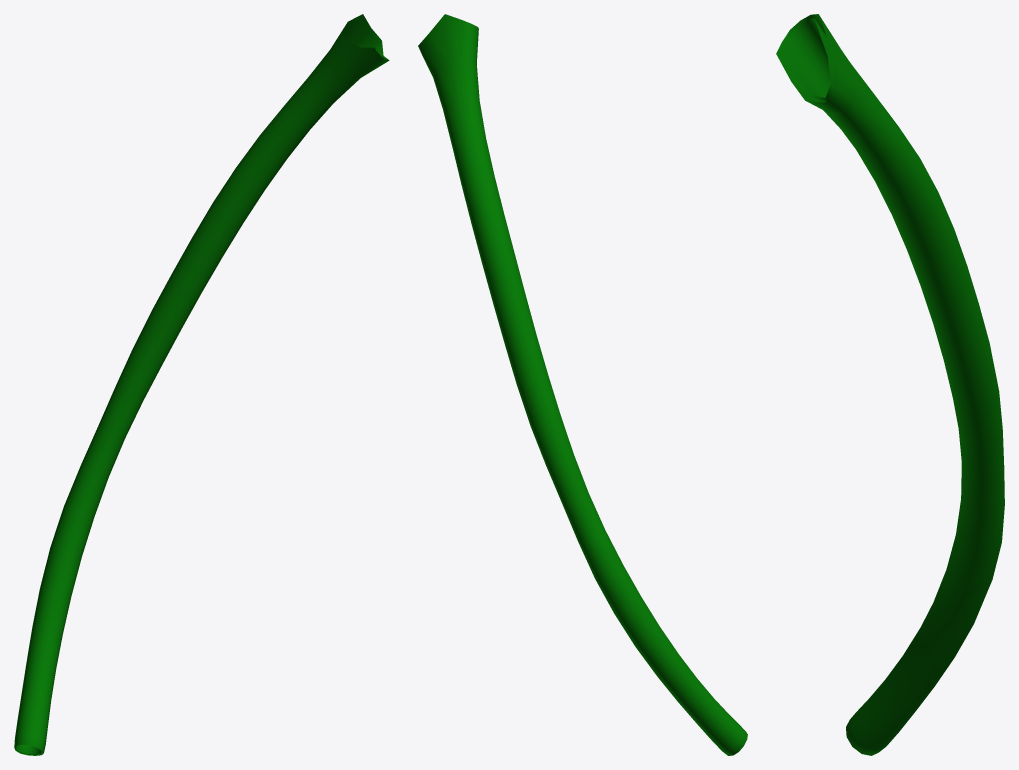
The model's file is VH_F_Ducts_of_Gallbladder.fbx.
3 renders of one model, left to right at view 1: azimuth 30°, elevation 25°; view 2: azimuth 150°, elevation 25°; view 3: azimuth 270°, elevation 25°, orthographic. The views are drawn at different scales.
Visible parts, largest first — view 1: VH_F_cystic_duct; view 2: VH_F_cystic_duct; view 3: VH_F_cystic_duct.
Part boxes in pixels (box(x1,y1,x2,y2)): VH_F_cystic_duct: box(14, 14, 389, 755); VH_F_cystic_duct: box(418, 14, 747, 755); VH_F_cystic_duct: box(776, 14, 1004, 755).
Bounding box in the file's own units: 1.62 × 2.98 × 0.654.
